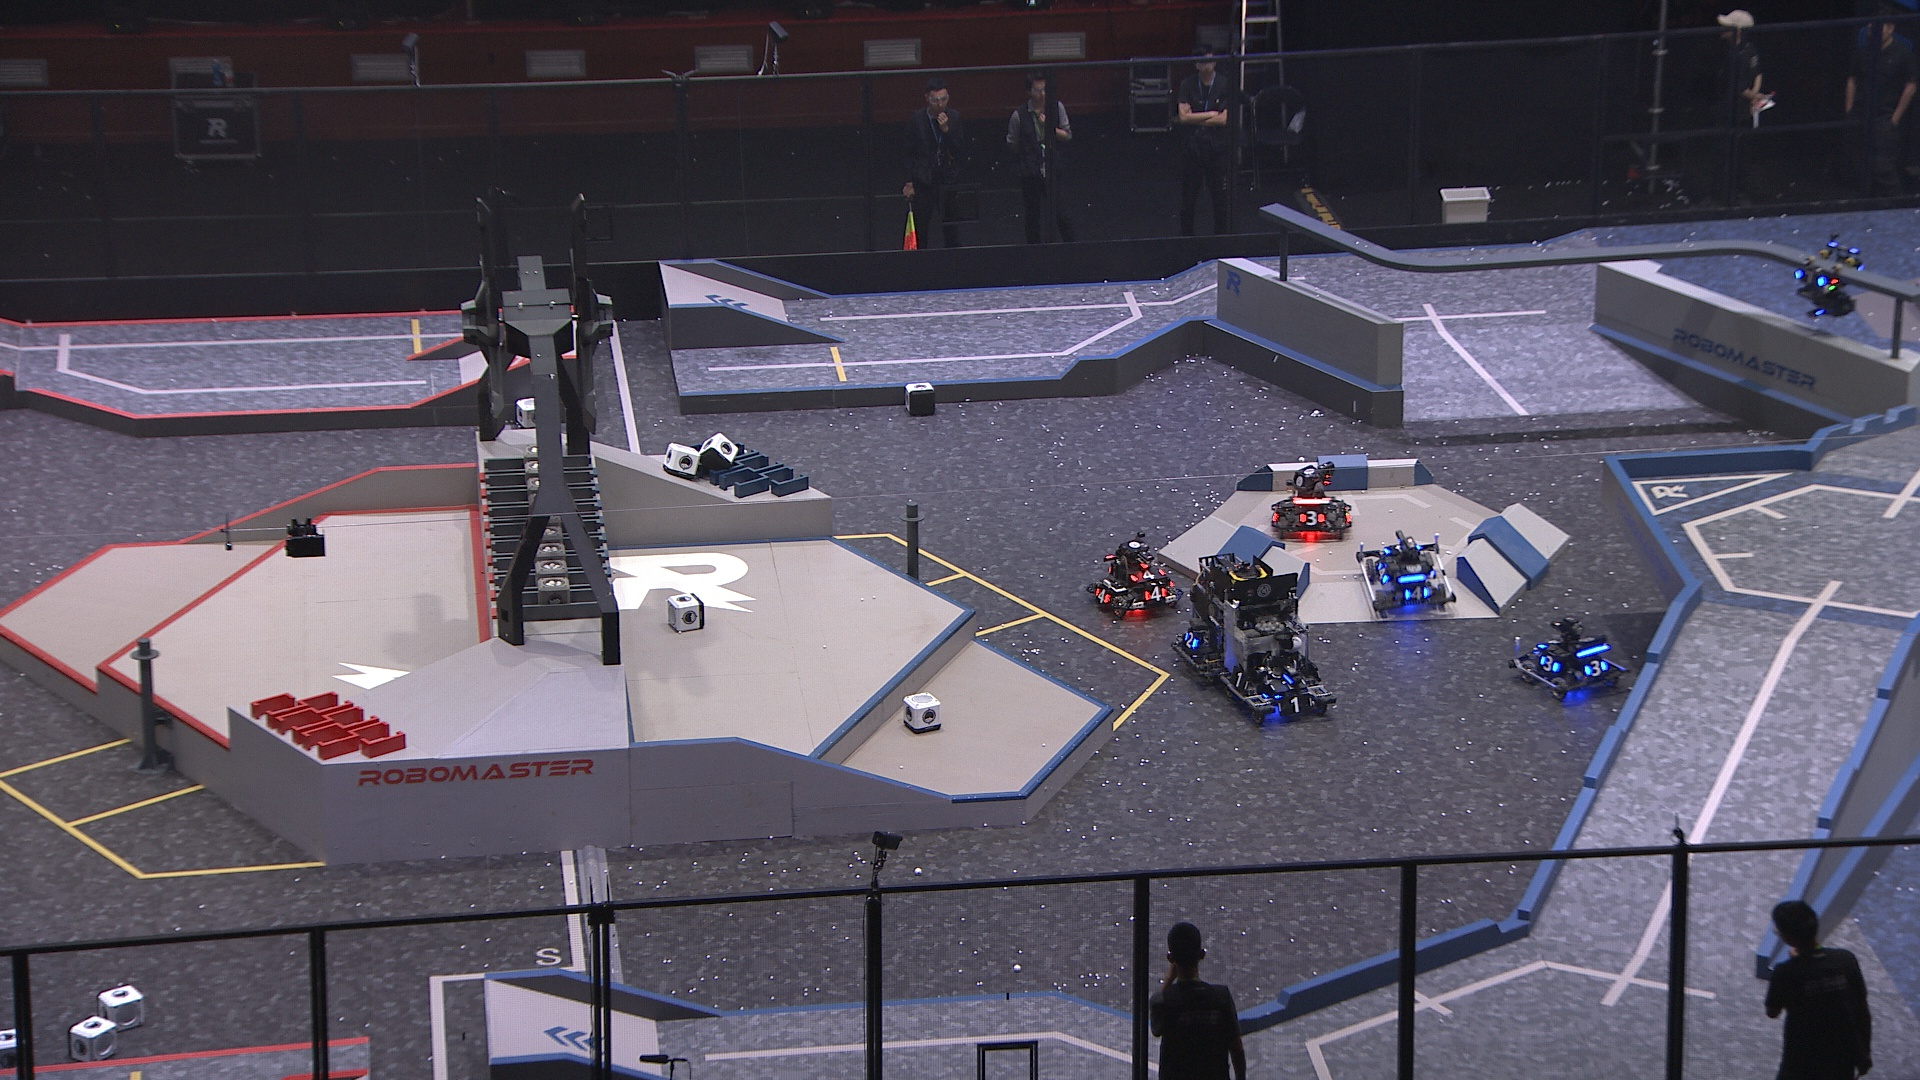armor: (1276, 694, 1315, 716), (1793, 266, 1826, 289), (1269, 678, 1307, 694), (1130, 567, 1164, 584), (1228, 669, 1250, 694), (1139, 585, 1168, 603), (1298, 510, 1327, 527), (1091, 585, 1112, 605), (1538, 654, 1560, 673), (1404, 585, 1432, 600), (1375, 560, 1390, 585), (1585, 659, 1607, 675), (1536, 636, 1557, 651), (1182, 632, 1197, 651)
car: (1215, 568, 1335, 728), (1171, 550, 1267, 683), (1513, 616, 1629, 703), (1354, 529, 1460, 617), (1084, 535, 1179, 624), (1269, 462, 1353, 545)
watcher: (1789, 235, 1870, 320)
